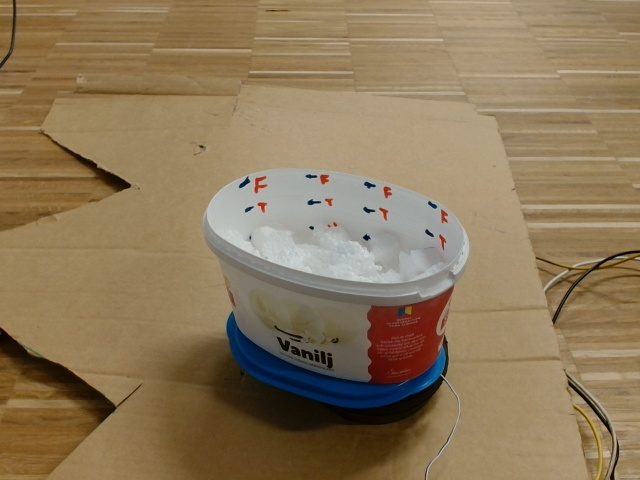Big_half: (206, 162, 470, 309)
